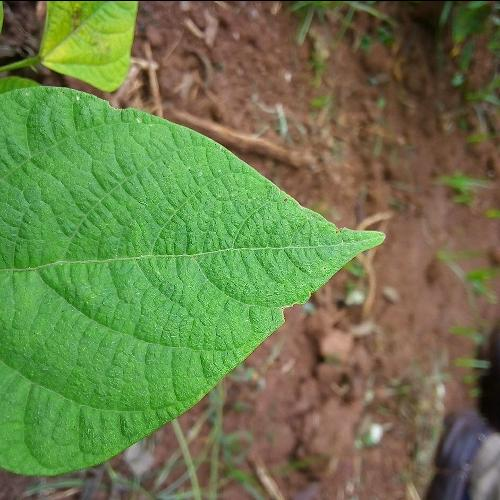embun tepung: (181, 158, 233, 184)
sehat: (0, 186, 185, 408)
